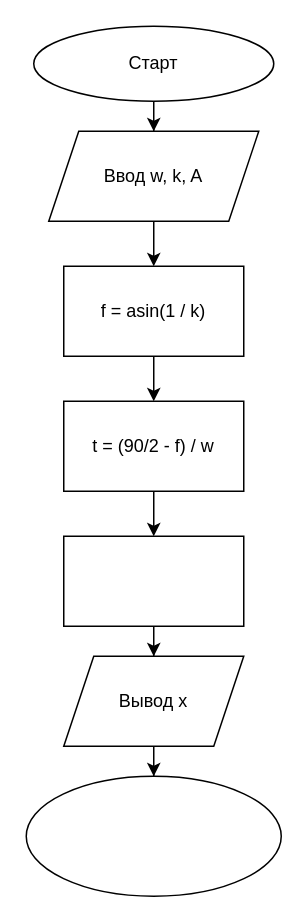
Some shapes in this 308 by 923 pixel diagram are drawn without their labels. The shapes that lost their labels are listed below. From the top down, each one's box as (x1, y1, x2, y2) in pixels, then its label:
(62, 535, 244, 626): x = A*sin(w*t+f)
(25, 775, 281, 896): Конец
